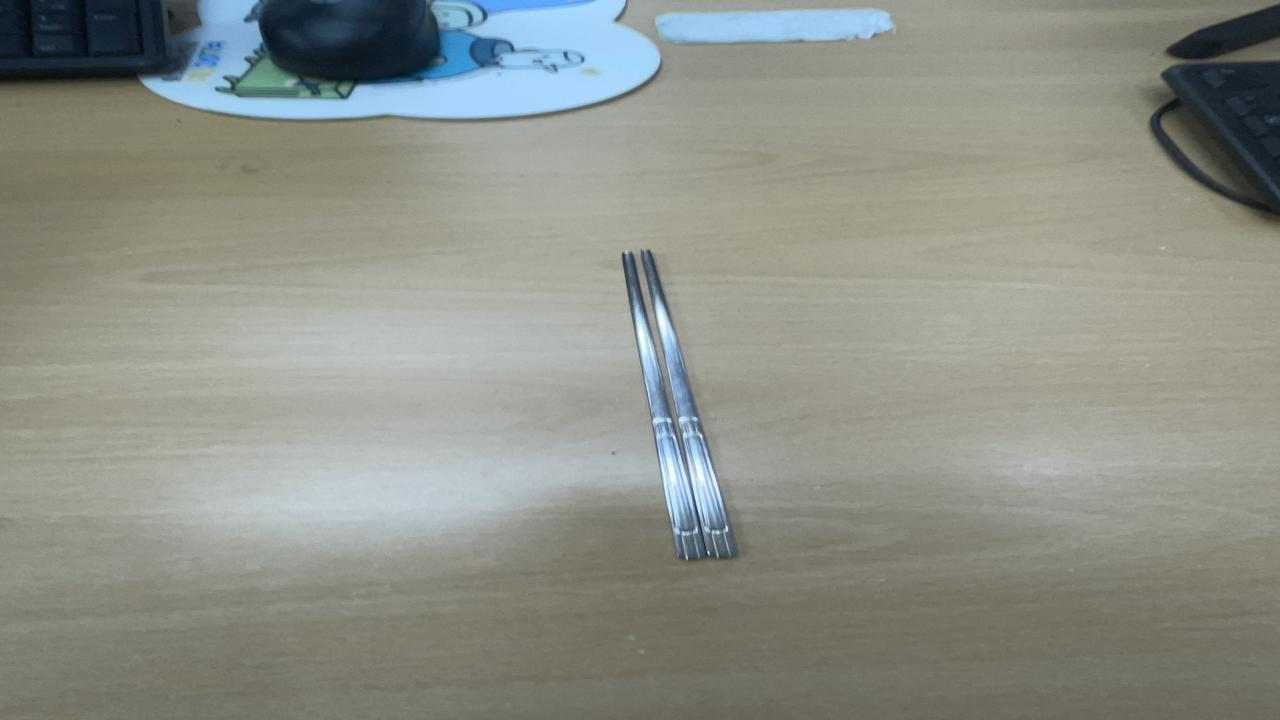chopstick: (615, 248, 740, 565)
